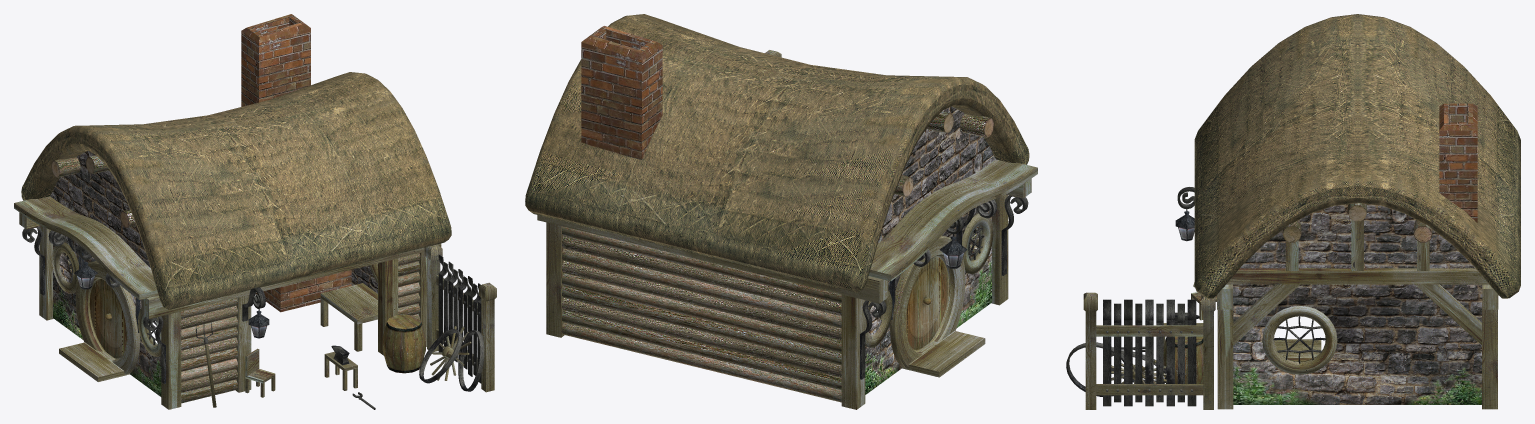
Rendered from black_smith.obj.
3 views of the same model, side by side, from view 1: azimuth 30°, elevation 25°; view 2: azimuth 150°, elevation 25°; view 3: azimuth 270°, elevation 25° (orthographic). The views are drawn at different scales.
Visible parts, largest first — view 1: Object_Blksmith_jpg; view 2: Object_Blksmith_jpg; view 3: Object_Blksmith_jpg.
Part boxes in pixels (x1,y1,x2,y2): Object_Blksmith_jpg: (14, 14, 496, 409); Object_Blksmith_jpg: (525, 14, 1037, 409); Object_Blksmith_jpg: (1066, 14, 1520, 409).
Size of the model in its own units: 2.09 by 1.65 by 2.5.
